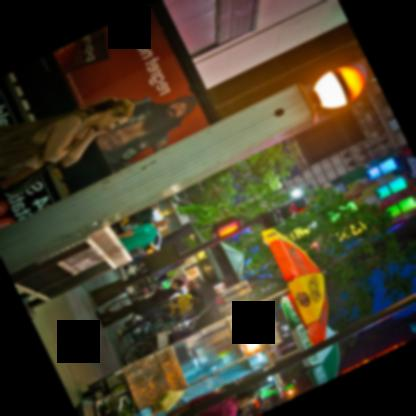handbag: (0, 112, 84, 178), (152, 390, 185, 413)
